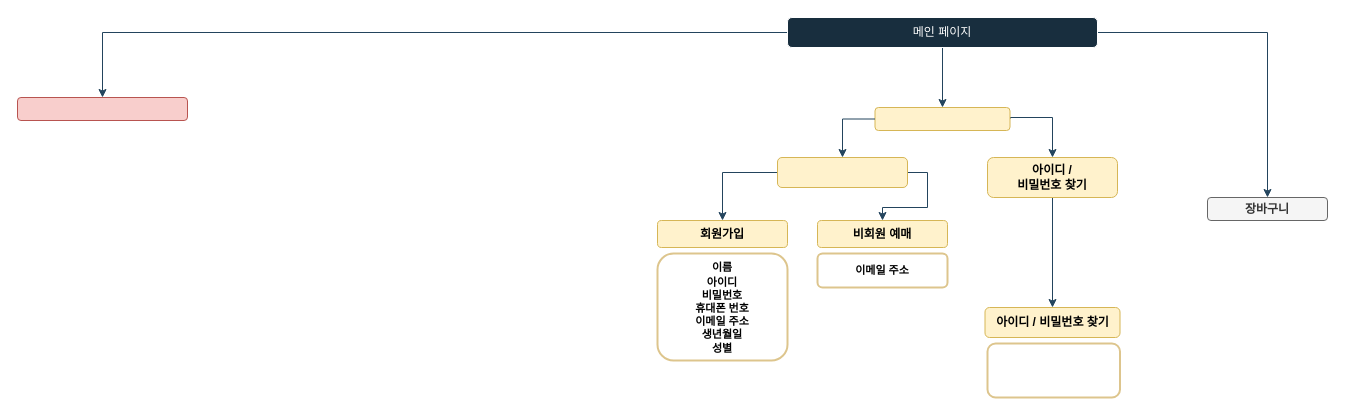
Image size: 1345x419. Some labels were removed from this diagram. The centre of each missing label's shape, as x and y in pixels:
"네비게이션 바" belongs at point (102, 108).
"로그인" belongs at point (842, 172).
"로그인 페이지" belongs at point (942, 118).
"이름 아이디 이메일 주소" belongs at point (1053, 370).
